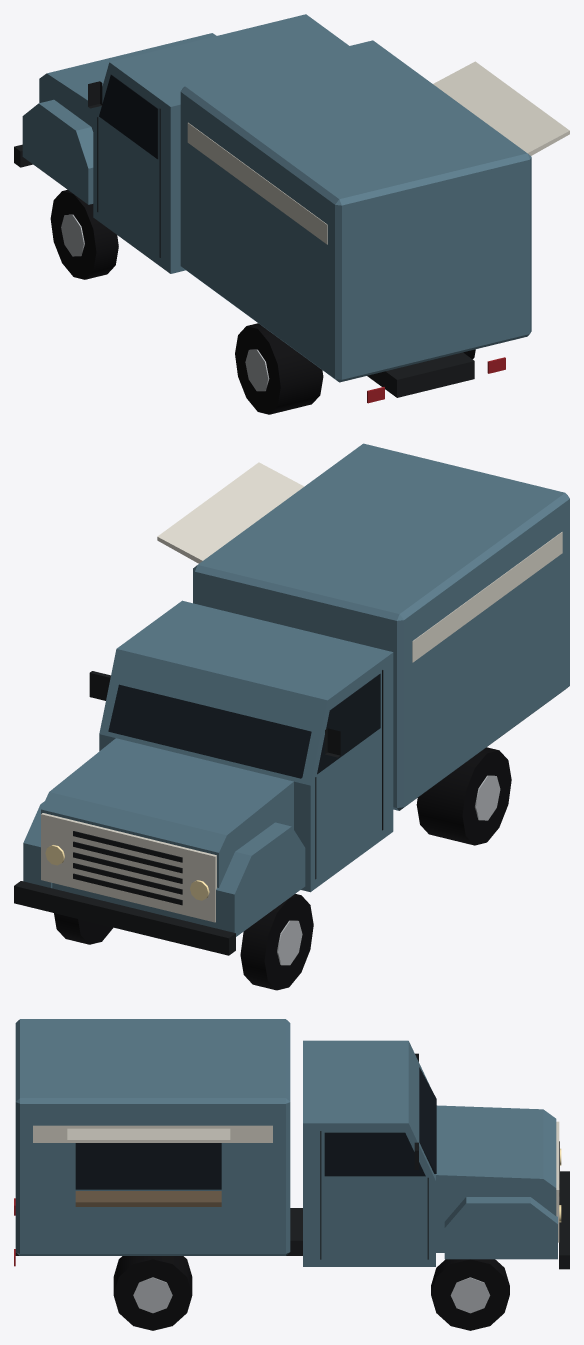
The model's file is car-lavka.glb.
3 views of the same model, one above another, from view 1: azimuth 30°, elevation 25°; view 2: azimuth 150°, elevation 25°; view 3: azimuth 270°, elevation 25° (orthographic). The views are drawn at different scales.
Visible parts, largest first — view 1: 00_#5a7a8a_r320, 05_#141416_r320, 03_#e0dcd0_r320, 02_#1e2022_noshadow_r110, 01_#1a2026_noshadow_r320, 06_#b8bcc0_noshadow_r110; view 2: 00_#5a7a8a_r320, 03_#e0dcd0_r320, 01_#1a2026_noshadow_r320, 05_#141416_r320, 02_#1e2022_noshadow_r110, 06_#b8bcc0_noshadow_r110; view 3: 00_#5a7a8a_r320, 01_#1a2026_noshadow_r320, 05_#141416_r320, 03_#e0dcd0_r320, 08_#6a5a48_noshadow_r110, 02_#1e2022_noshadow_r110, 06_#b8bcc0_noshadow_r110.
Part boxes in pixels (x1,y1,x2,y2): 00_#5a7a8a_r320: [22, 14, 531, 382]; 05_#141416_r320: [50, 189, 475, 414]; 03_#e0dcd0_r320: [187, 61, 569, 244]; 02_#1e2022_noshadow_r110: [14, 81, 474, 397]; 01_#1a2026_noshadow_r320: [99, 74, 158, 159]; 06_#b8bcc0_noshadow_r110: [61, 214, 269, 391]; 00_#5a7a8a_r320: [23, 443, 569, 936]; 03_#e0dcd0_r320: [41, 462, 562, 922]; 01_#1a2026_noshadow_r320: [108, 673, 380, 778]; 05_#141416_r320: [54, 747, 511, 990]; 02_#1e2022_noshadow_r110: [14, 670, 383, 955]; 06_#b8bcc0_noshadow_r110: [277, 775, 500, 965]; 00_#5a7a8a_r320: [15, 1019, 557, 1266]; 01_#1a2026_noshadow_r320: [75, 1067, 436, 1189]; 05_#141416_r320: [113, 1256, 509, 1330]; 03_#e0dcd0_r320: [33, 1121, 559, 1242]; 08_#6a5a48_noshadow_r110: [75, 1191, 221, 1206]; 02_#1e2022_noshadow_r110: [15, 1053, 569, 1269]; 06_#b8bcc0_noshadow_r110: [133, 1277, 490, 1313].
Size of the model in its own units: 3.22 by 2.97 by 6.48.
